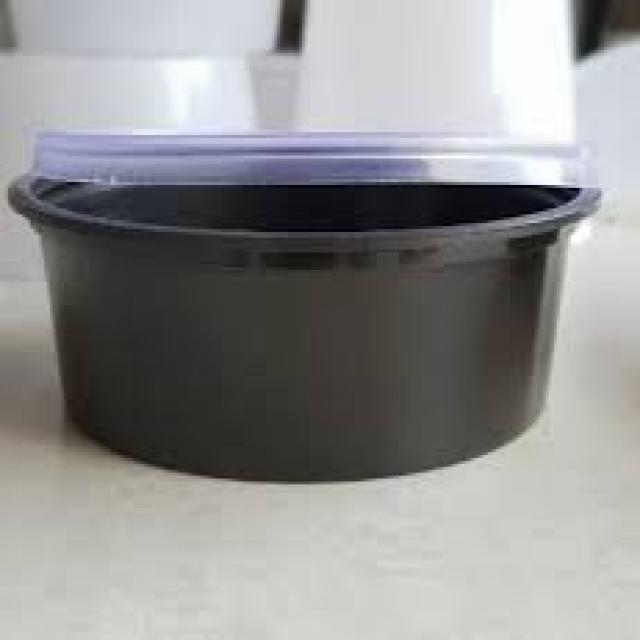disposable: (7, 89, 631, 501)
